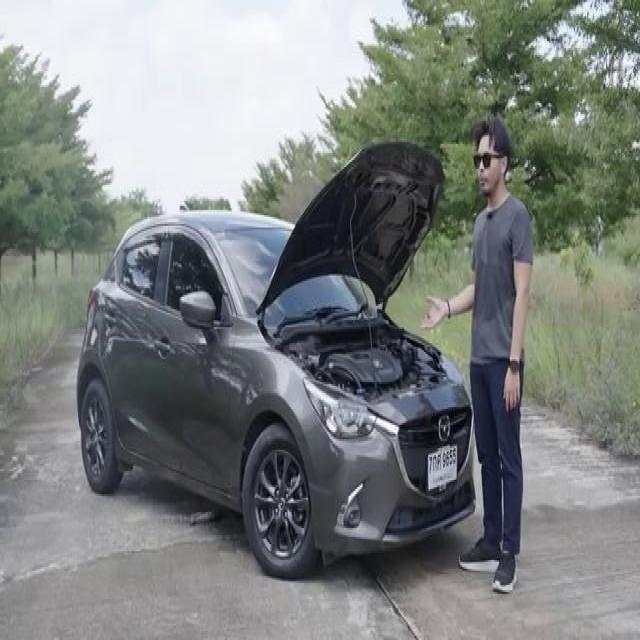Hatchback: (77, 142, 475, 576)
